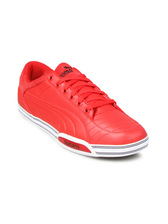shoes: (14, 57, 155, 158)
